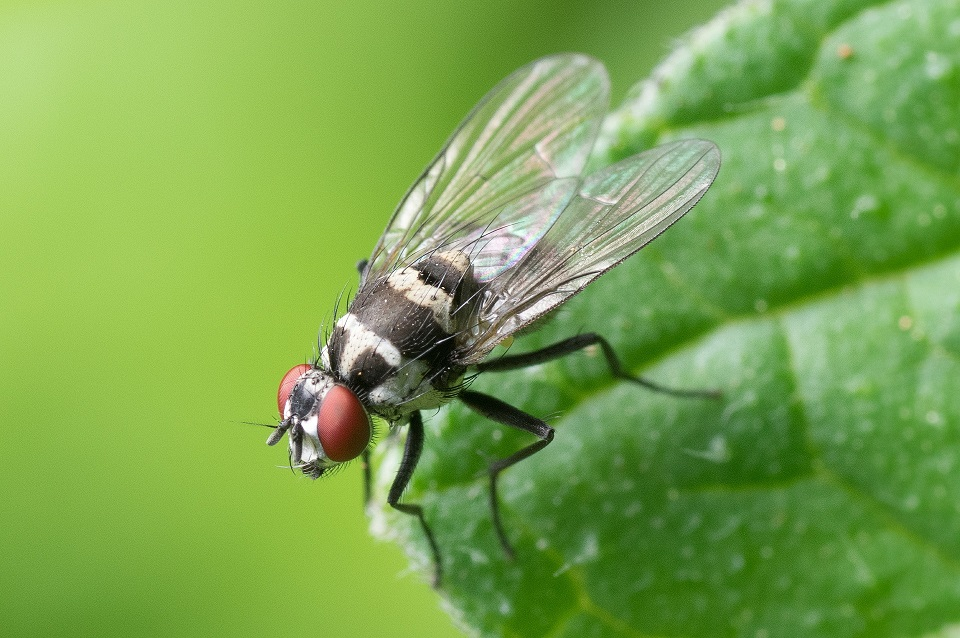fly: (252, 49, 737, 586)
